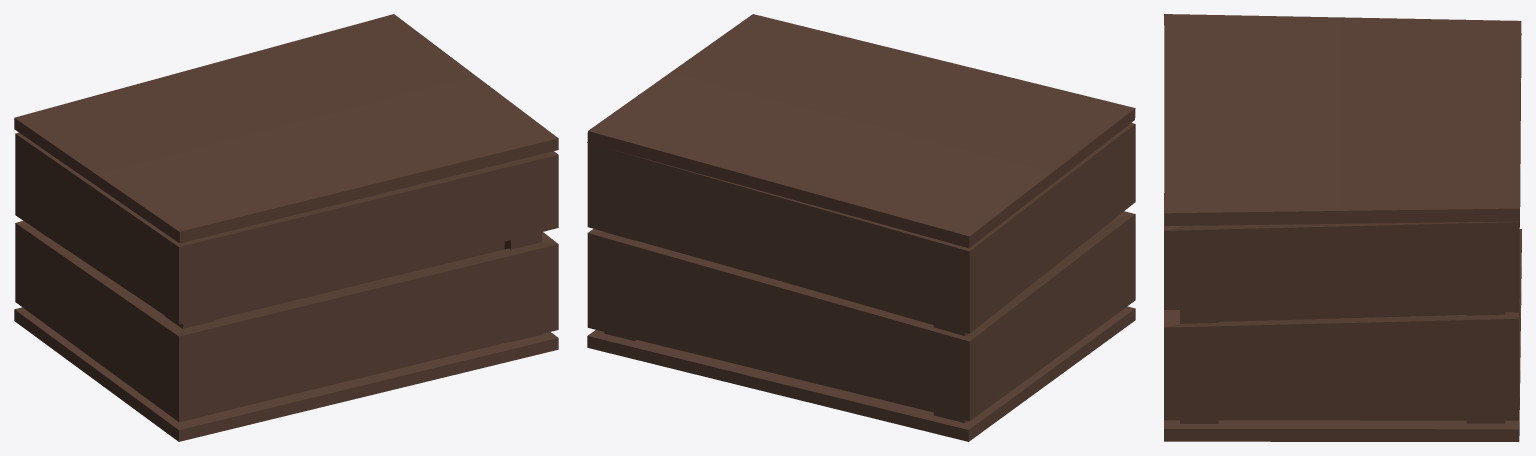
File: TNT Box Closed.glb
3 views of the same model, side by side, from view 1: azimuth 30°, elevation 25°; view 2: azimuth 150°, elevation 25°; view 3: azimuth 270°, elevation 25° (orthographic). The views are drawn at different scales.
Visible parts, largest first — view 1: TNT Box Closed; view 2: TNT Box Closed; view 3: TNT Box Closed.
Boxes of the visible parts, x1=… form: TNT Box Closed: x1=14, y1=14, x2=558, y2=441; TNT Box Closed: x1=587, y1=14, x2=1135, y2=441; TNT Box Closed: x1=1164, y1=14, x2=1521, y2=441.
Size of what is drawn, in the model's own units: 0.6169 by 0.3342 by 0.4651.
Materials: 1 (1 with a texture image).
